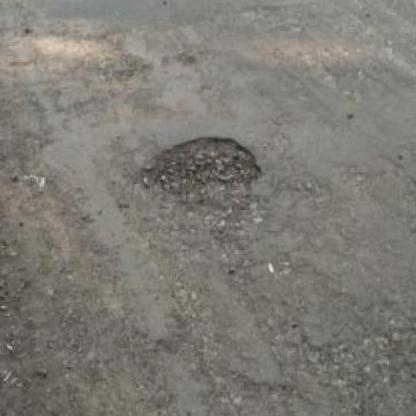pothole: (130, 130, 264, 202)
